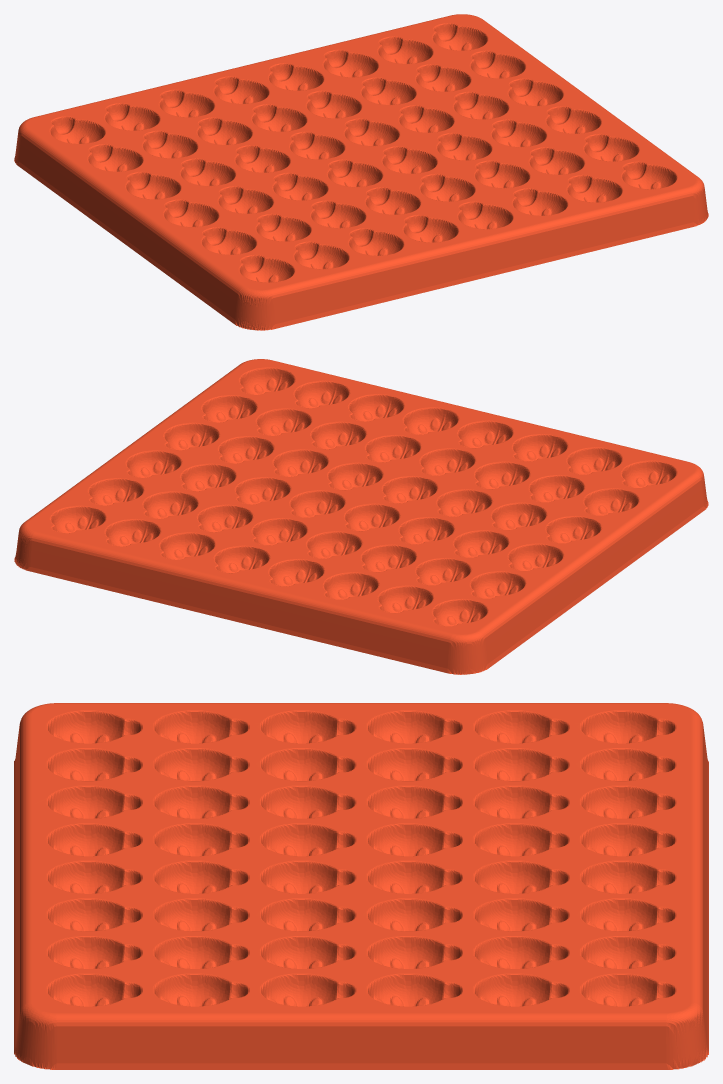
The model's file is mold.glb.
The picture shows the model from 3 angles, top to bottom: view 1: azimuth 30°, elevation 25°; view 2: azimuth 150°, elevation 25°; view 3: azimuth 270°, elevation 25°; orthographic projection. The views are drawn at different scales.
Parts seen in each view (by area): view 1: geometry_0; view 2: geometry_0; view 3: geometry_0.
Boxes of the visible parts, x1,y1,x2,y2 form: geometry_0: (14,14,708,330); geometry_0: (14,359,708,674); geometry_0: (14,703,708,1069).
Size of the model in its own units: 0.1591 by 0.0113 by 0.1443.
